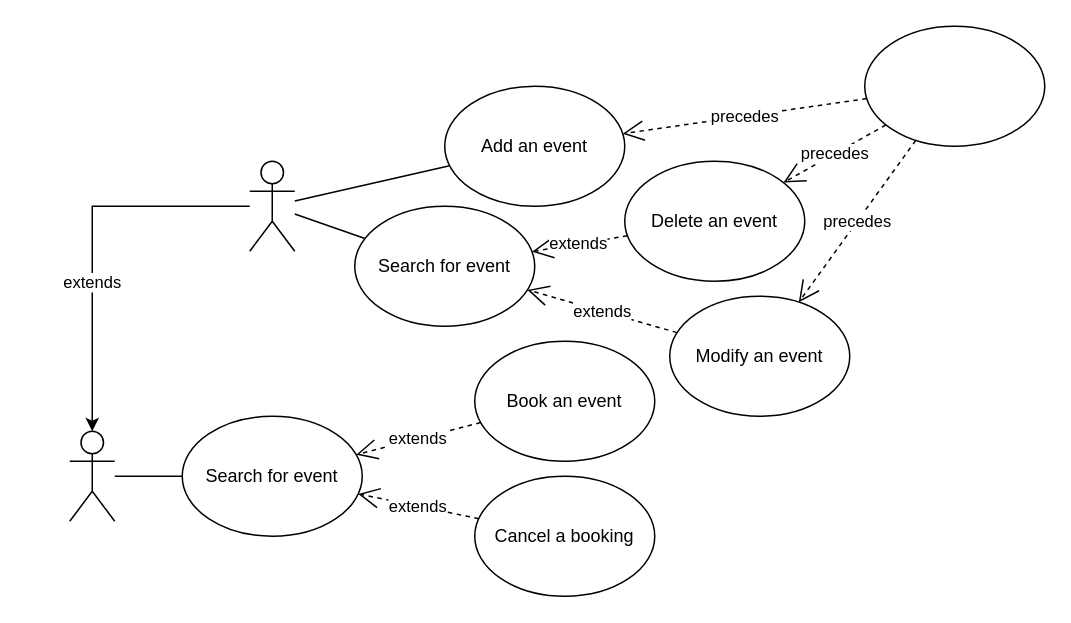
Some shapes in this 1071 by 623 pixel diagram are drawn without their labels. Here are the shapes that lost their labels. From the top down, the box of each, then its label:
(863, 25, 1045, 146): Login
(248, 160, 295, 251): Admin User
(68, 430, 115, 521): Non-Admin User
